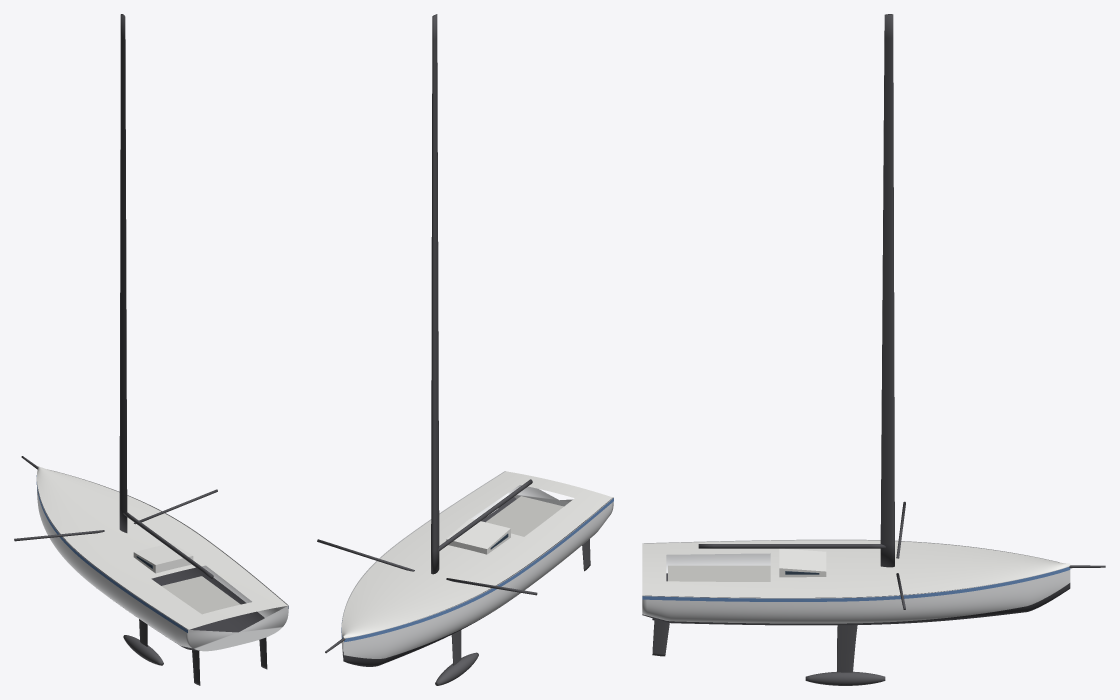
Rendered from aquitaine_innovations.glb.
3 views of the same model, side by side, from view 1: azimuth 30°, elevation 25°; view 2: azimuth 150°, elevation 25°; view 3: azimuth 270°, elevation 25° (orthographic). The views are drawn at different scales.
Parts seen in each view (by area): view 1: pont, coque, mat, fond, cockpit, rouf, bande, app_bulbe, pivot_bome; view 2: pont, coque, mat, cockpit, rouf, bande, fond, app_bulbe, pivot_bome; view 3: pont, coque, mat, cockpit, bande, fond, rouf, pivot_bome, app_bulbe, app_quille.
Boxes of the visible parts, <box> form: pont: <box>37,466,287,629</box>; coque: <box>36,470,288,651</box>; mat: <box>119,14,127,532</box>; fond: <box>38,489,264,650</box>; cockpit: <box>161,576,240,614</box>; rouf: <box>133,543,193,573</box>; bande: <box>36,475,288,632</box>; app_bulbe: <box>123,635,163,665</box>; pivot_bome: <box>123,512,213,578</box>; pont: <box>341,471,612,638</box>; coque: <box>341,471,613,658</box>; mat: <box>431,14,439,574</box>; cockpit: <box>486,496,563,536</box>; rouf: <box>446,518,510,554</box>; bande: <box>341,498,613,642</box>; fond: <box>343,497,586,666</box>; app_bulbe: <box>435,652,478,685</box>; pivot_bome: <box>438,479,532,551</box>; pont: <box>642,540,1070,597</box>; coque: <box>642,539,1070,623</box>; mat: <box>880,14,894,567</box>; cockpit: <box>668,565,770,581</box>; bande: <box>642,567,1070,601</box>; fond: <box>642,573,1070,625</box>; rouf: <box>779,548,826,577</box>; pivot_bome: <box>698,544,885,548</box>; app_bulbe: <box>805,671,885,685</box>; app_quille: <box>837,625,857,672</box>.
Bounding box in the file's own units: 10.72 × 31.6 × 19.78.
